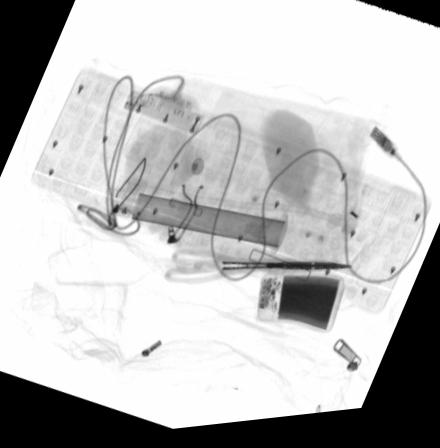Powerbank: (253, 277, 348, 340)
Scissors: (160, 253, 353, 291)
